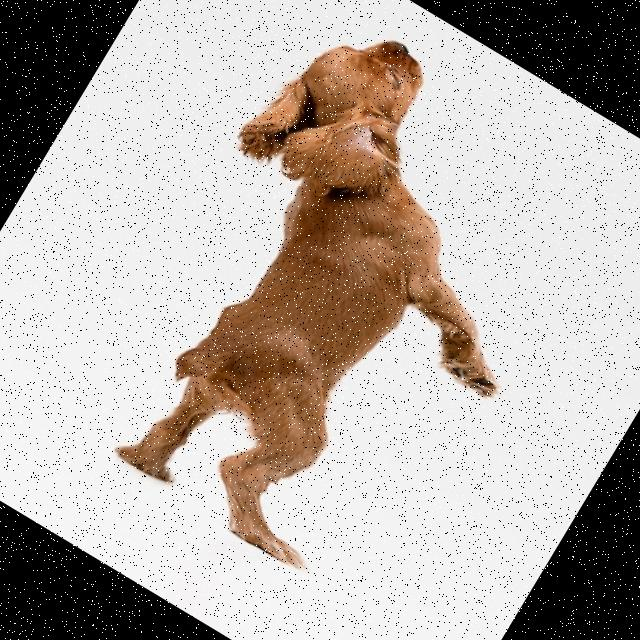Dog: (58, 0, 625, 613)
